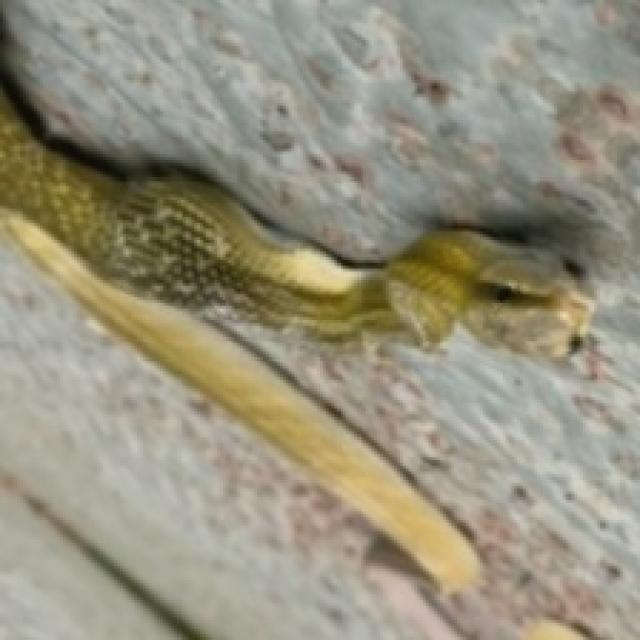red-tailed green ratsnake: (0, 94, 592, 593)
